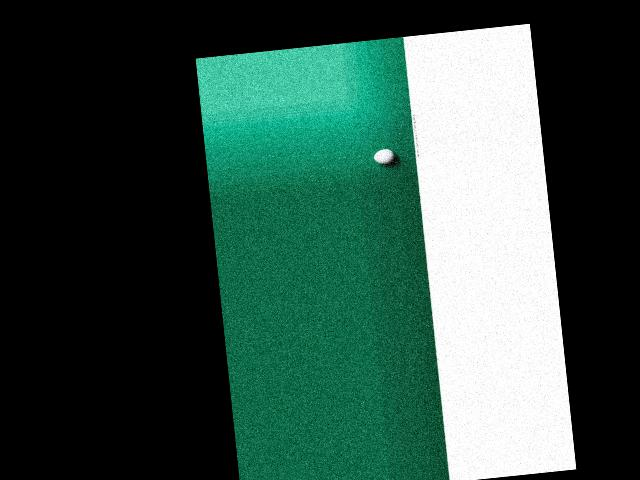egg: (373, 147, 395, 164)
